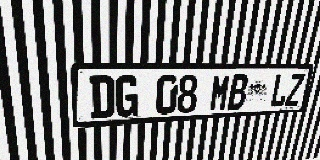0: (155, 75, 179, 115)
8: (176, 75, 199, 113)
B: (227, 74, 249, 110)
D: (89, 75, 115, 119)
G: (115, 75, 139, 117)
L: (269, 74, 291, 108)
M: (209, 74, 232, 111)
Z: (284, 74, 306, 107)
